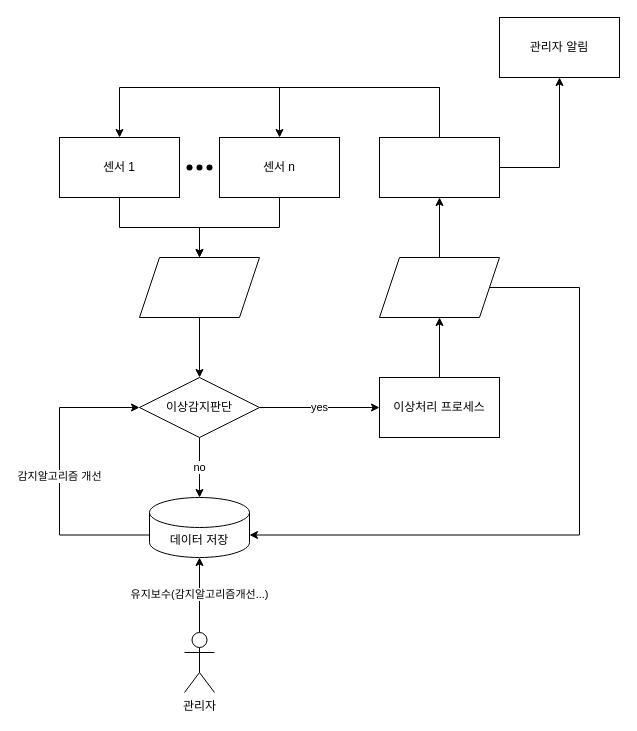
The diagram is 637 pixels wide and 731 high, and some of its shapes have lost their labels. Each missing label, with the centre of its shape:
센싱데이터: (x=199, y=287)
제어기기 or 제어소프트웨어: (x=439, y=167)
컨트롤데이터: (x=439, y=287)
